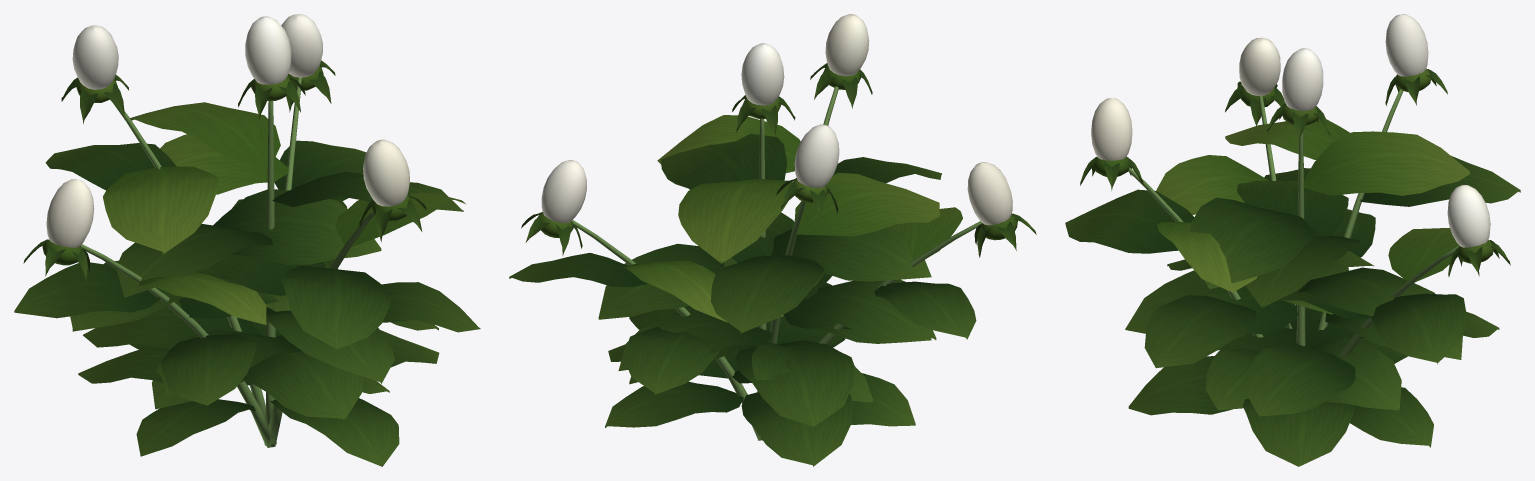
The model's file is daisy-08-lod.glb.
3 renders of one model, left to right at view 1: azimuth 30°, elevation 25°; view 2: azimuth 150°, elevation 25°; view 3: azimuth 270°, elevation 25°, orthographic. The views are drawn at different scales.
Visible parts, largest first — view 1: daisy_stage_08_leaf_veins.015, daisy_stage_08_young_leaf.015, daisy_stage_08_daisy_petal.015, daisy_stage_08_stem_fibres.015; view 2: daisy_stage_08_leaf_veins.015, daisy_stage_08_young_leaf.015, daisy_stage_08_daisy_petal.015, daisy_stage_08_stem_fibres.015; view 3: daisy_stage_08_leaf_veins.015, daisy_stage_08_young_leaf.015, daisy_stage_08_daisy_petal.015, daisy_stage_08_stem_fibres.015.
Boxes of the visible parts, x1=… form: daisy_stage_08_leaf_veins.015: x1=14, y1=60, x2=480, y2=466; daisy_stage_08_young_leaf.015: x1=42, y1=65, x2=466, y2=324; daisy_stage_08_daisy_petal.015: x1=46, y1=14, x2=409, y2=247; daisy_stage_08_stem_fibres.015: x1=80, y1=77, x2=374, y2=447; daisy_stage_08_leaf_veins.015: x1=509, y1=63, x2=1036, y2=466; daisy_stage_08_young_leaf.015: x1=538, y1=65, x2=1017, y2=322; daisy_stage_08_daisy_petal.015: x1=541, y1=14, x2=1012, y2=225; daisy_stage_08_stem_fibres.015: x1=571, y1=86, x2=981, y2=440; daisy_stage_08_leaf_veins.015: x1=1065, y1=69, x2=1520, y2=466; daisy_stage_08_young_leaf.015: x1=1093, y1=68, x2=1493, y2=292; daisy_stage_08_daisy_petal.015: x1=1091, y1=14, x2=1490, y2=247; daisy_stage_08_stem_fibres.015: x1=1128, y1=89, x2=1459, y2=356.
Bounding box in the file's own units: 0.356 × 0.3175 × 0.3353.
Materials: 4 (3 with a texture image).
